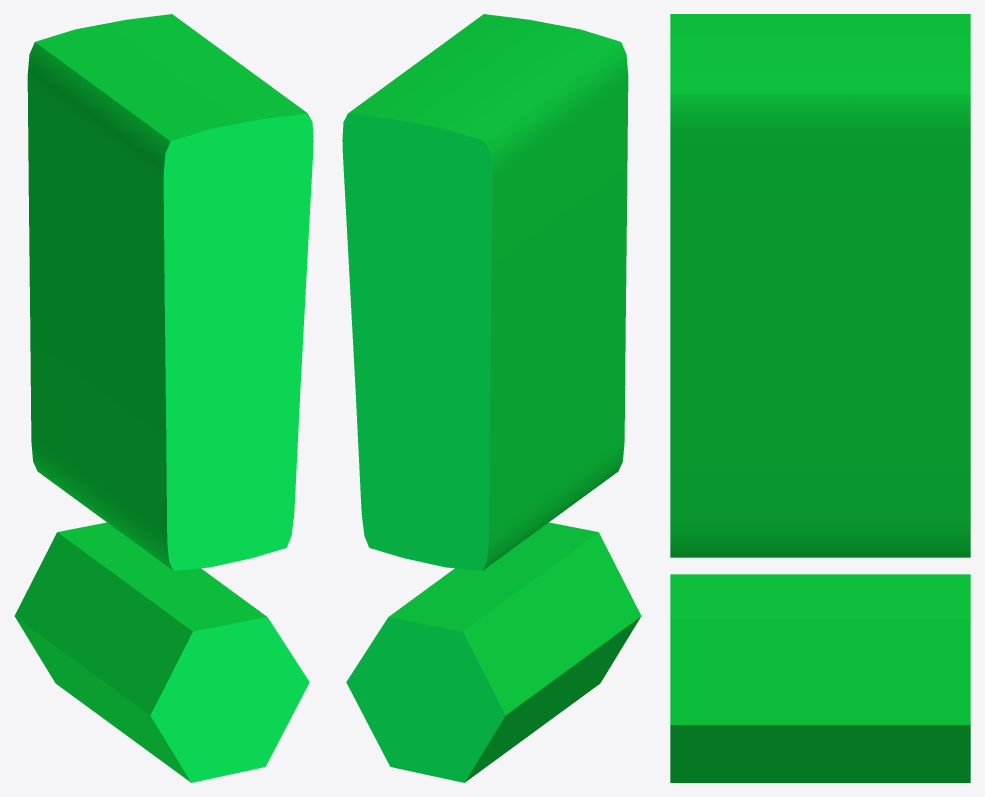
3 views of the same model, side by side, from view 1: azimuth 30°, elevation 25°; view 2: azimuth 150°, elevation 25°; view 3: azimuth 270°, elevation 25° (orthographic). The views are drawn at different scales.
Visible parts, largest first — view 1: !_Zyzol_Green; view 2: !_Zyzol_Green; view 3: !_Zyzol_Green.
Boxes of the visible parts, box(x1,y1,x2,y2) form: !_Zyzol_Green: box(14, 14, 313, 782); !_Zyzol_Green: box(342, 14, 641, 782); !_Zyzol_Green: box(670, 14, 970, 782).
Size of what is drawn, in the model's own units: 0.0312 by 0.119 by 0.045.
Materials: 2 (2 with a texture image).
